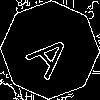A: (25, 25, 82, 82)
